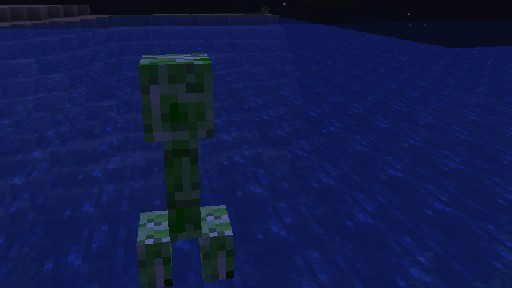creeper: (135, 52, 233, 288)
